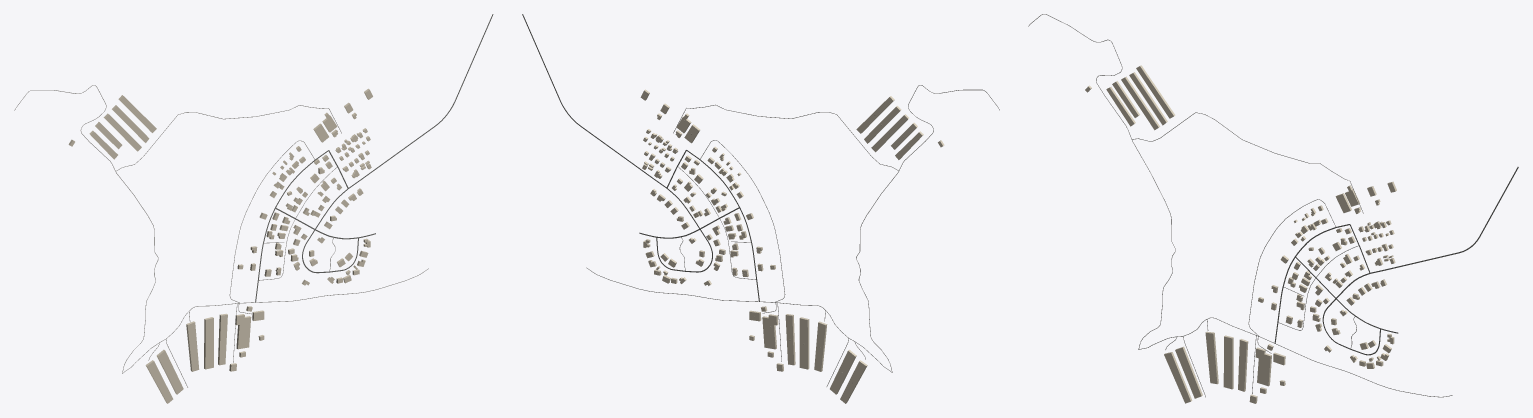
Rendered from historic-palestine-15_33_3568_3278.glb.
3 views of the same model, side by side, from view 1: azimuth 30°, elevation 25°; view 2: azimuth 150°, elevation 25°; view 3: azimuth 330°, elevation 25° (orthographic). The views are drawn at different scales.
Parts seen in each view (by area): view 1: Road .005, Building_.003, Building_.005, Building_.002, Building_.001, Building_.004, Road, Road .007; view 2: Road .005, Building_.003, Building_.005, Road, Building_.001, Building_.002, Building_.004; view 3: Road .005, Building_.003, Building_.001, Building_.002, Building_.005, Building_, Road, Building_.004, Building_.011, Building_.009, Building_.010.
Part boxes in pixels (left/top/right/bottom): Road .005: left=302, top=14, right=493, bottom=273; Building_.003: left=204, top=317, right=213, bottom=369; Building_.005: left=235, top=314, right=251, bottom=349; Building_.002: left=186, top=321, right=199, bottom=371; Building_.001: left=156, top=349, right=183, bottom=394; Building_.004: left=218, top=313, right=227, bottom=365; Road: left=14, top=85, right=158, bottom=373; Road .007: left=229, top=140, right=428, bottom=303; Road .005: left=522, top=14, right=712, bottom=272; Building_.003: left=799, top=317, right=809, bottom=369; Building_.005: left=762, top=314, right=778, bottom=349; Road: left=856, top=85, right=999, bottom=372; Building_.001: left=830, top=349, right=856, bottom=394; Building_.002: left=814, top=321, right=827, bottom=371; Building_.004: left=785, top=314, right=795, bottom=365; Road .005: left=1322, top=167, right=1518, bottom=355; Building_.003: left=1223, top=335, right=1233, bottom=389; Building_.001: left=1175, top=346, right=1202, bottom=398; Building_.002: left=1205, top=331, right=1218, bottom=384; Building_.005: left=1255, top=347, right=1271, bottom=386; Building_: left=1164, top=352, right=1192, bottom=403; Road: left=1028, top=14, right=1175, bottom=349; Building_.004: left=1238, top=339, right=1248, bottom=391; Building_.011: left=1136, top=65, right=1175, bottom=118; Building_.009: left=1121, top=76, right=1160, bottom=130; Building_.010: left=1129, top=72, right=1167, bottom=125.
Size of the model in its own units: 1483 by 1027 by 8.7.
